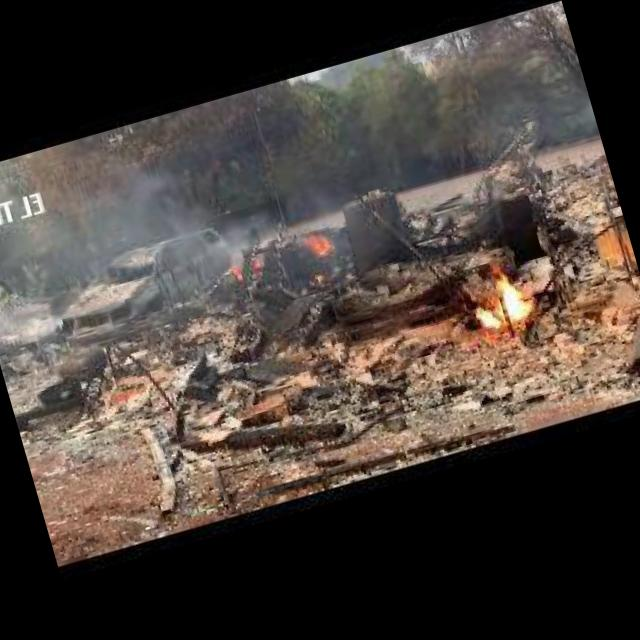fire: (462, 261, 542, 333), (300, 225, 332, 260), (230, 259, 243, 277)
